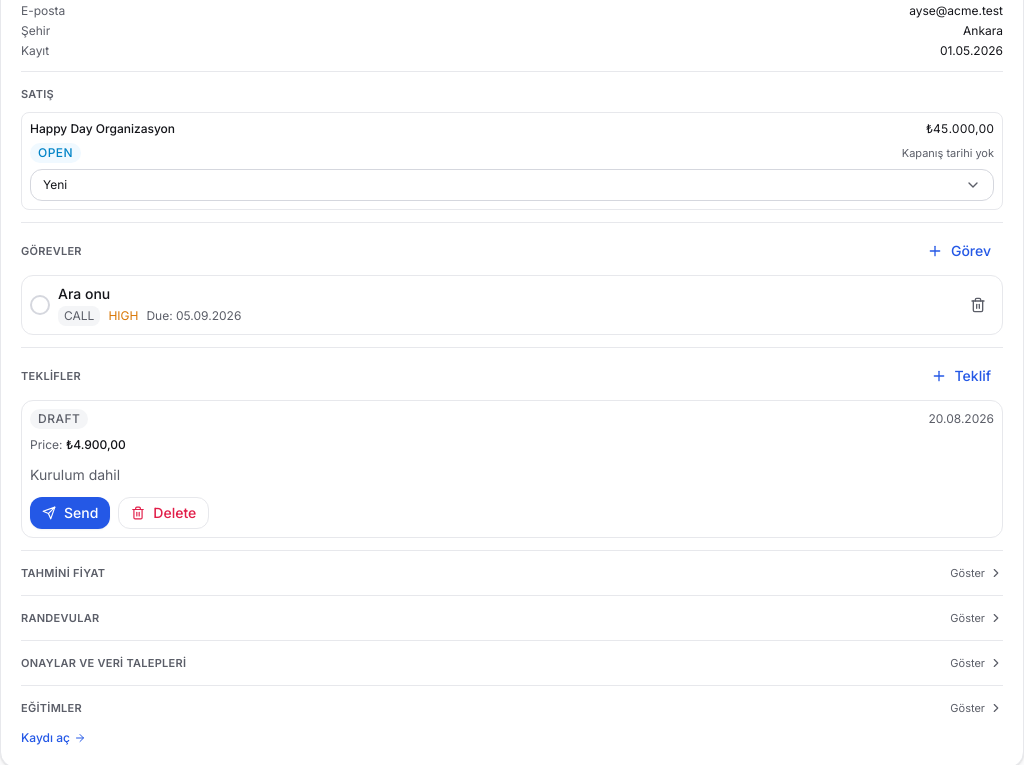
Test: LeadContextPane — the person’s remaining objects › asks for THIS person’s appointments, and only once opened
(page scrolled)
What coordinates should you click on to do the following:
click the button "Randevular Göster"
I would click on:
 (60, 618)
Its box is [21,608,1003,628].
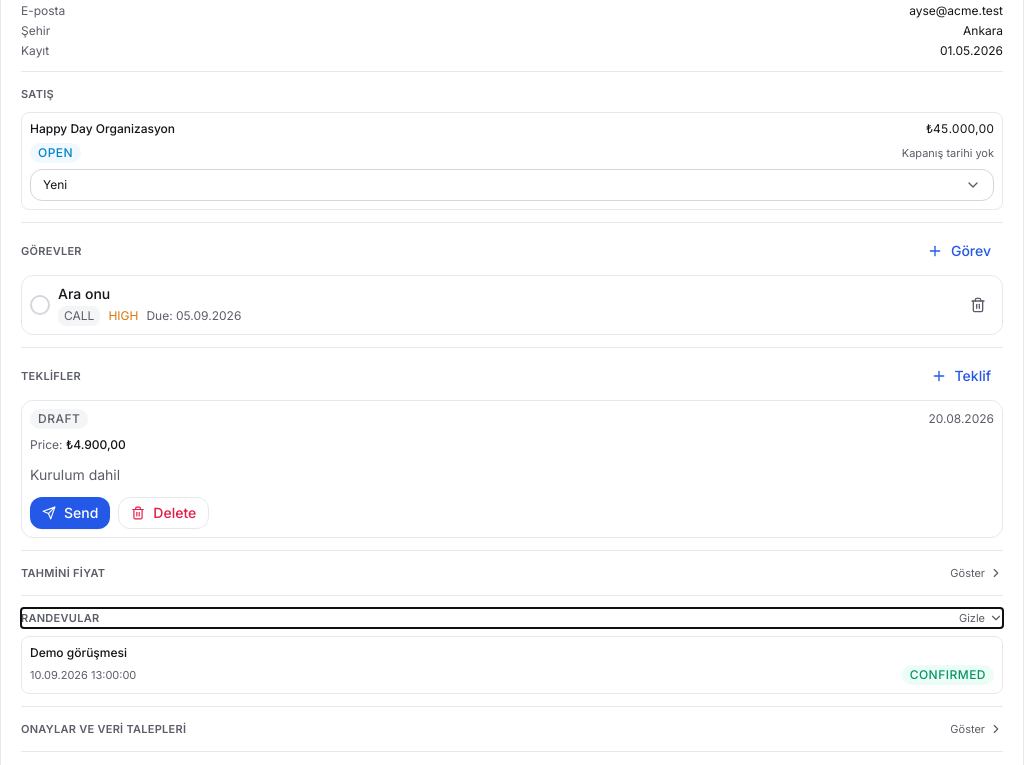
Check: the text "Demo görüşmesi" is shown, box [30,645,127,660]
